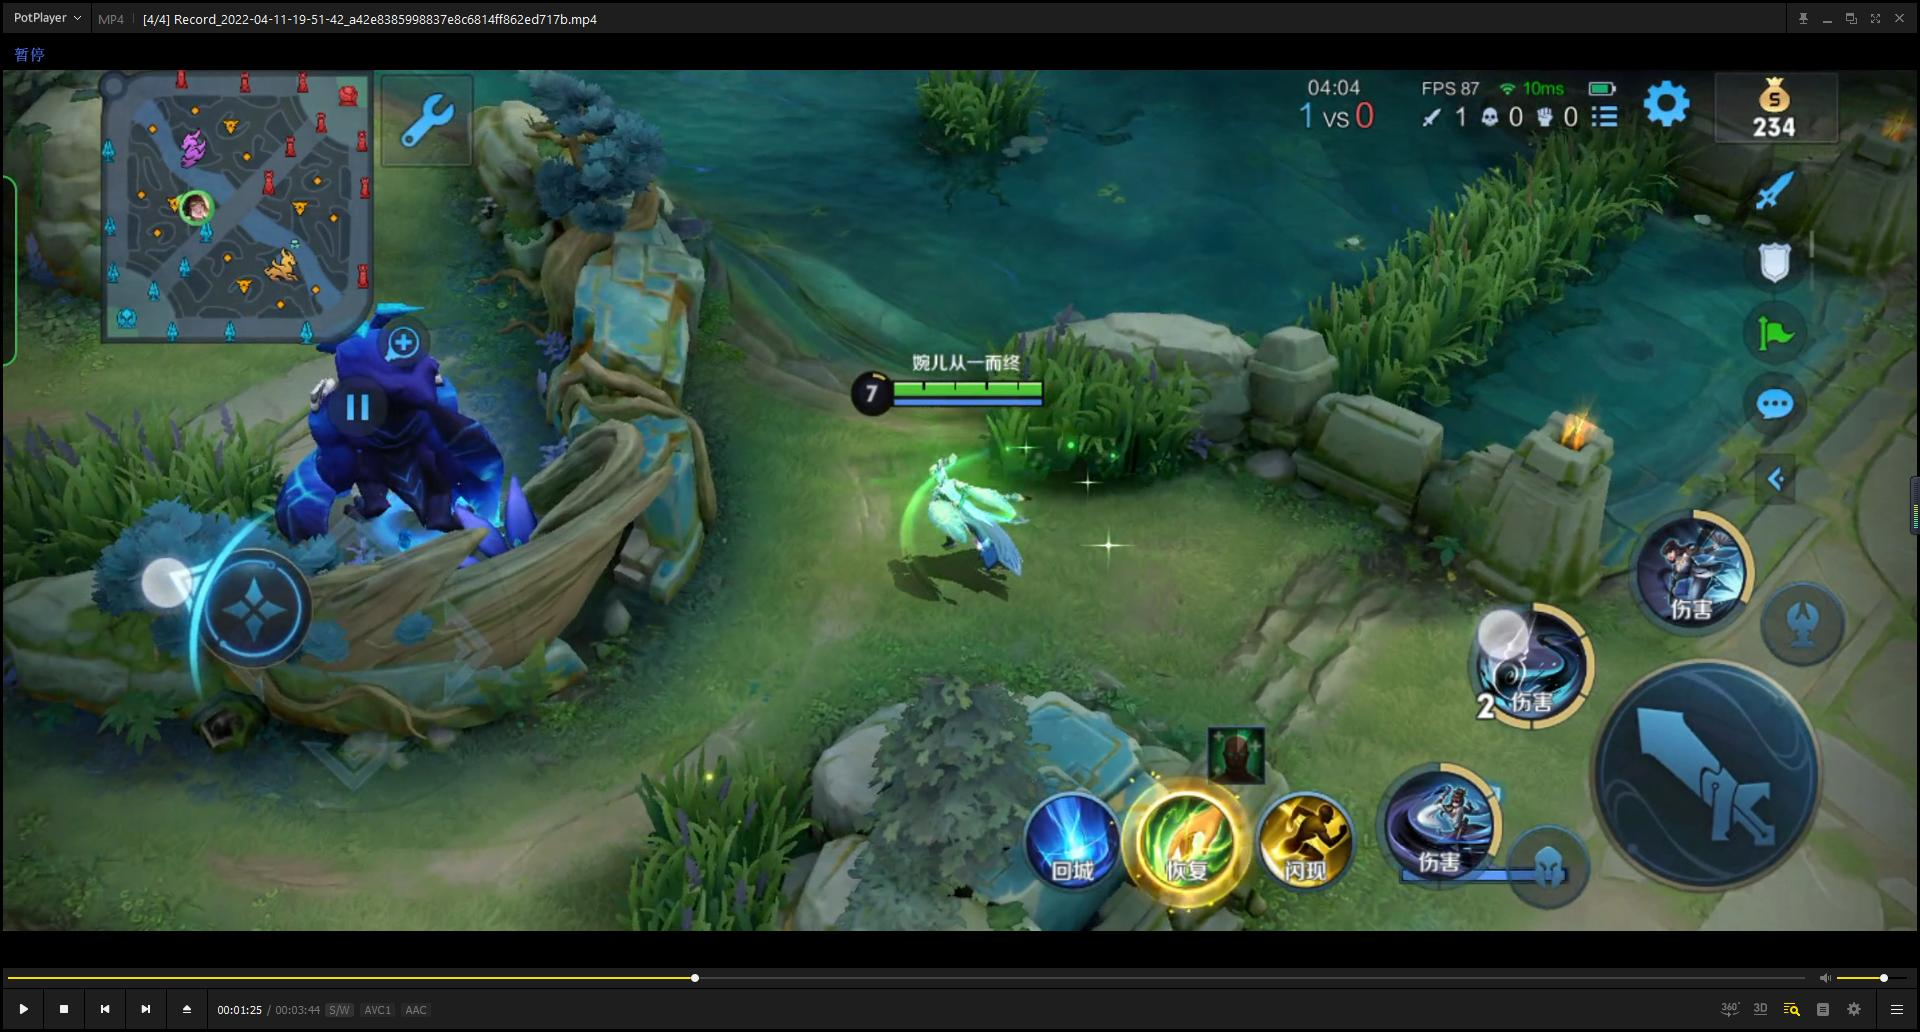Buff: (249, 294, 536, 616)
Hero: (868, 438, 1045, 594)
